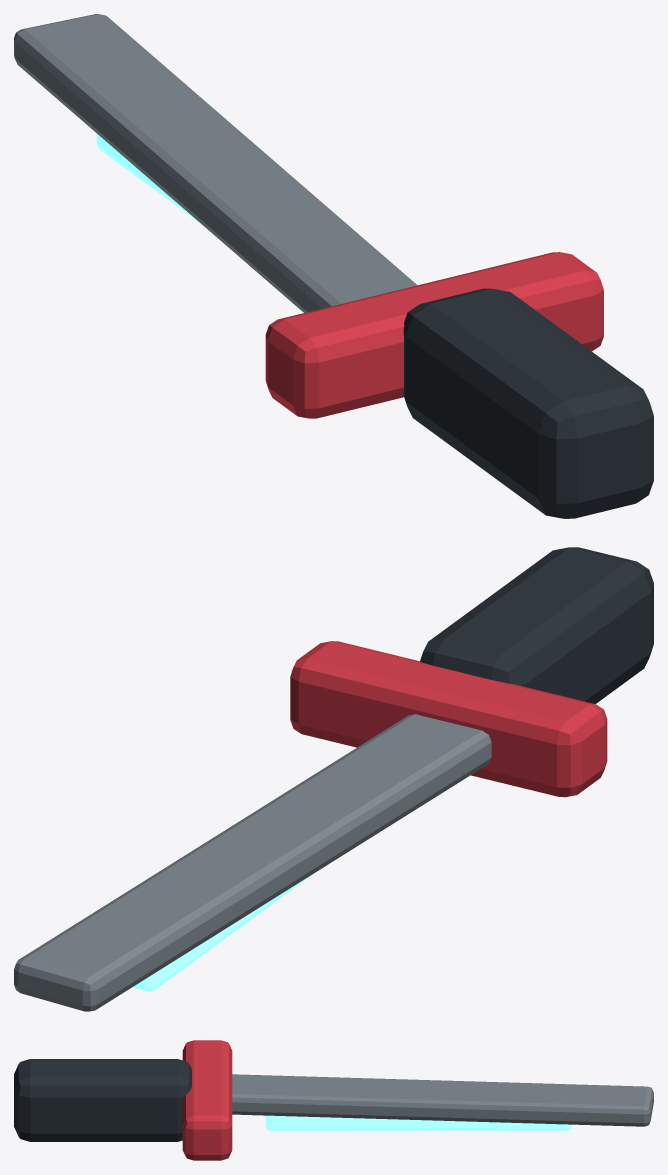
The model's file is StealthBlade.fbx.
The picture shows the model from 3 angles, top to bottom: view 1: azimuth 30°, elevation 25°; view 2: azimuth 150°, elevation 25°; view 3: azimuth 270°, elevation 25°; orthographic projection. The views are drawn at different scales.
Parts seen in each view (by area): view 1: Blade Grip, Blade Edge, Blade Guard, Blade Energy Channel; view 2: Blade Edge, Blade Guard, Blade Grip, Blade Energy Channel; view 3: Blade Edge, Blade Grip, Blade Guard, Blade Energy Channel.
Boxes of the visible parts, <box> form: Blade Grip: <box>403,288,653,518</box>; Blade Edge: <box>14,14,416,312</box>; Blade Guard: <box>265,252,603,418</box>; Blade Energy Channel: <box>96,133,201,224</box>; Blade Edge: <box>14,714,491,1011</box>; Blade Guard: <box>290,641,607,797</box>; Blade Grip: <box>420,547,653,703</box>; Blade Energy Channel: <box>133,873,314,991</box>; Blade Edge: <box>232,1074,653,1126</box>; Blade Grip: <box>14,1059,191,1141</box>; Blade Guard: <box>182,1040,232,1160</box>; Blade Energy Channel: <box>266,1115,571,1130</box>.
Size of the model in its own units: 0.22 by 0.08 by 0.7112.
